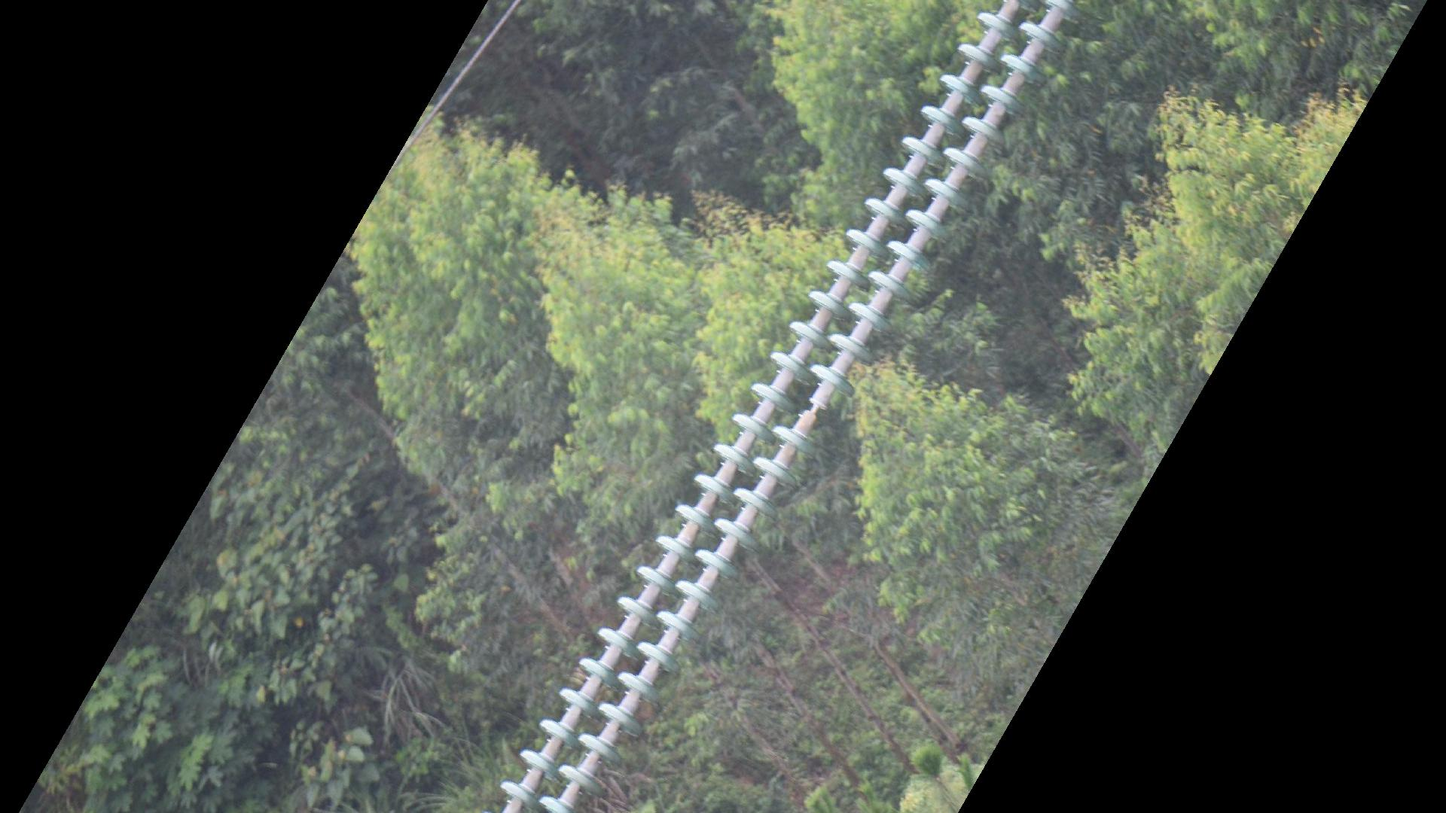insulator: (493, 1, 1089, 813)
insulator_stringdrop: (770, 361, 858, 459)
